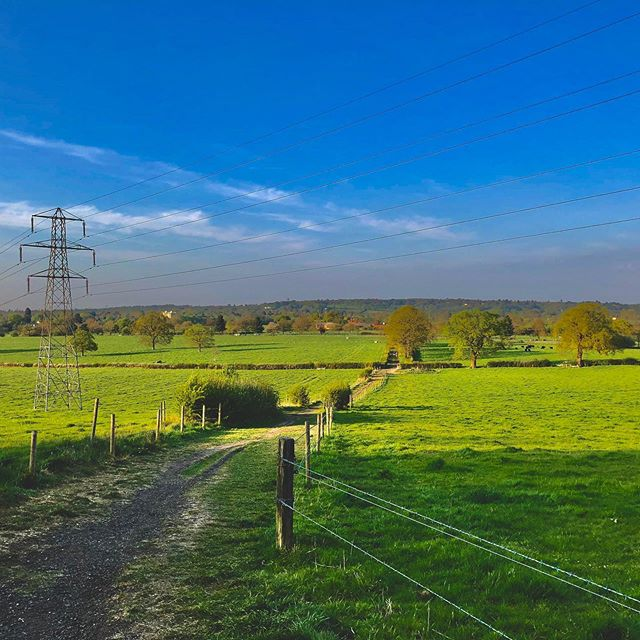grass: (365, 369, 640, 640), (1, 335, 361, 452)
power pole: (17, 207, 106, 429)
sky: (6, 1, 640, 291)
tree: (438, 300, 513, 371), (550, 298, 625, 369), (375, 302, 438, 362), (135, 309, 178, 352), (177, 316, 223, 355), (64, 322, 97, 362)
